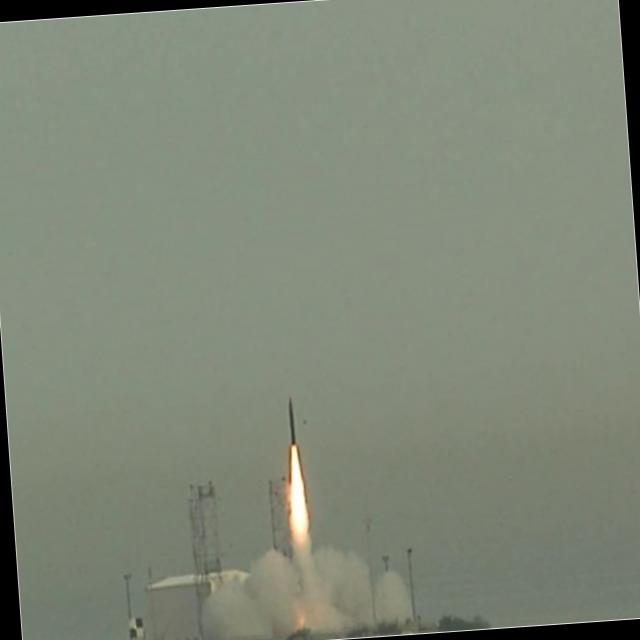rocket: (281, 394, 309, 543)
